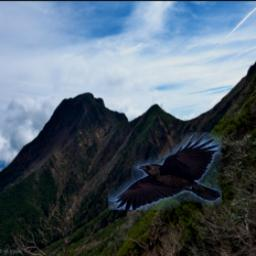Crow: (107, 132, 221, 210)
